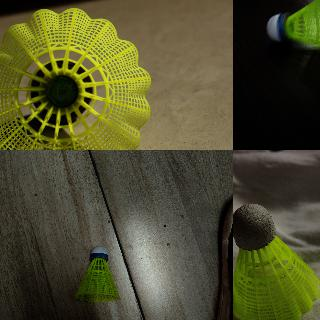shuttlecock: (0, 7, 150, 149), (233, 203, 320, 319), (265, 0, 319, 62), (75, 245, 119, 303)
